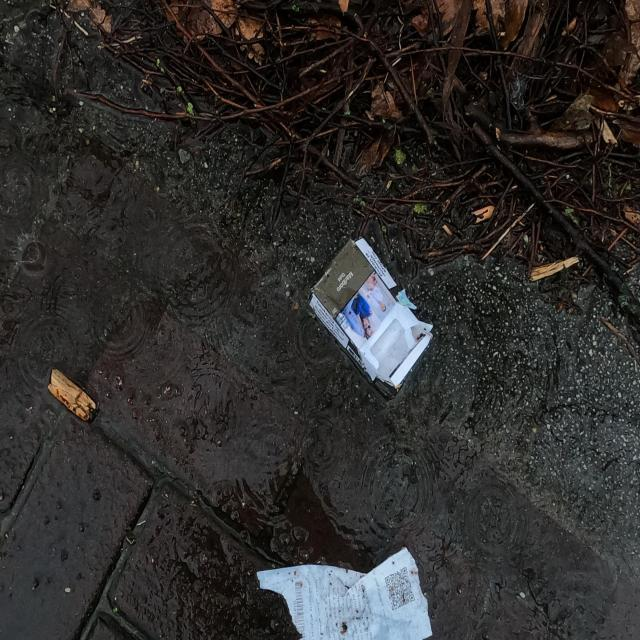Paper: (254, 544, 436, 640)
